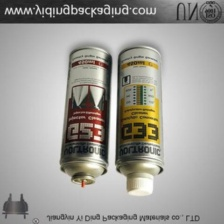aerosol_cans: (56, 42, 116, 190), (112, 41, 166, 197)
